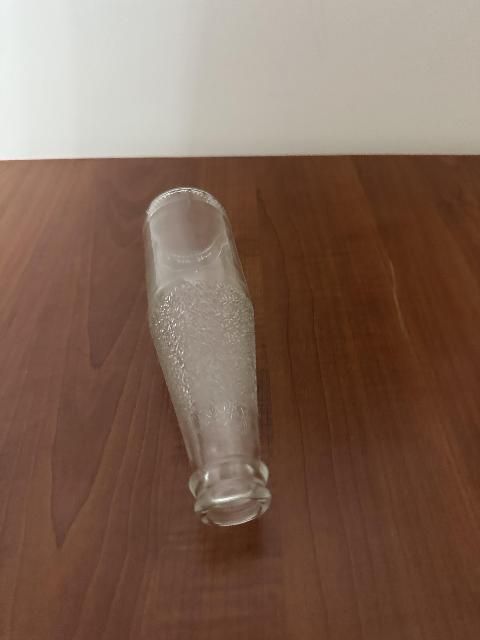Cam: (141, 186, 281, 527)
